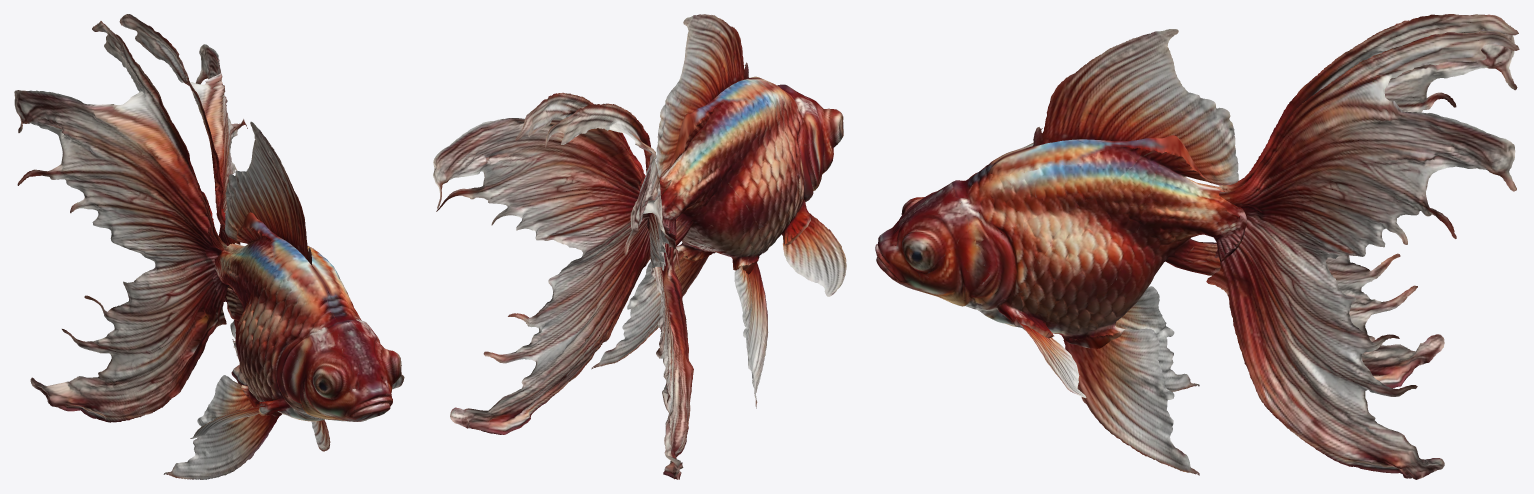
File: goldfish-natural-v2.glb
3 renders of one model, left to right at view 1: azimuth 30°, elevation 25°; view 2: azimuth 150°, elevation 25°; view 3: azimuth 270°, elevation 25°, orthographic. The views are drawn at different scales.
Parts seen in each view (by area): view 1: mesh_0; view 2: mesh_0; view 3: mesh_0.
Part boxes in pixels (x1,y1,x2,y2): mesh_0: [14, 14, 404, 479]; mesh_0: [433, 14, 846, 479]; mesh_0: [875, 14, 1519, 479].
Bounding box in the file's own units: 0.9213 × 1.33 × 1.9.
Materials: 1 (1 with a texture image).
